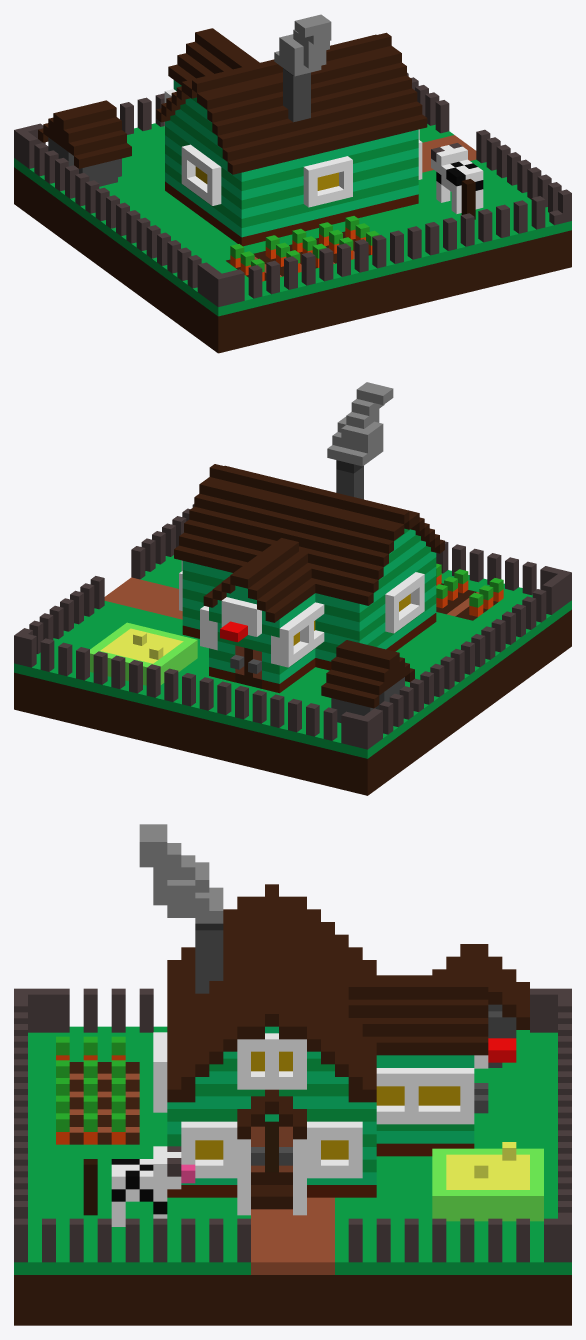
File: house.obj
3 renders of one model, top to bottom at view 1: azimuth 30°, elevation 25°; view 2: azimuth 150°, elevation 25°; view 3: azimuth 270°, elevation 25°, orthographic. The views are drawn at different scales.
Size of the model in its own units: 4 by 2.8 by 4.
1 material, 1 textured.
